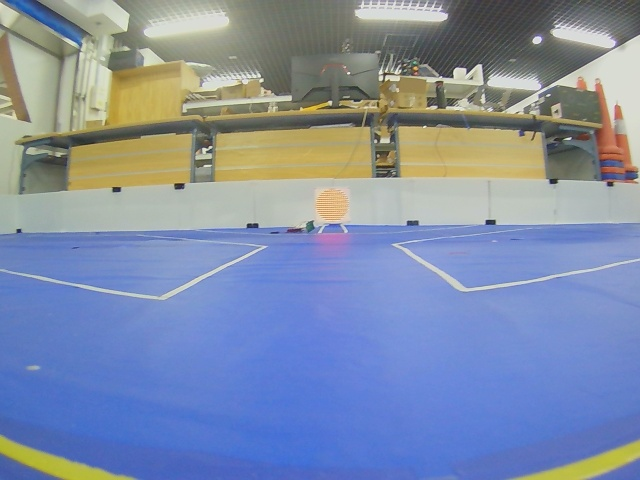red: (315, 188, 350, 223)
